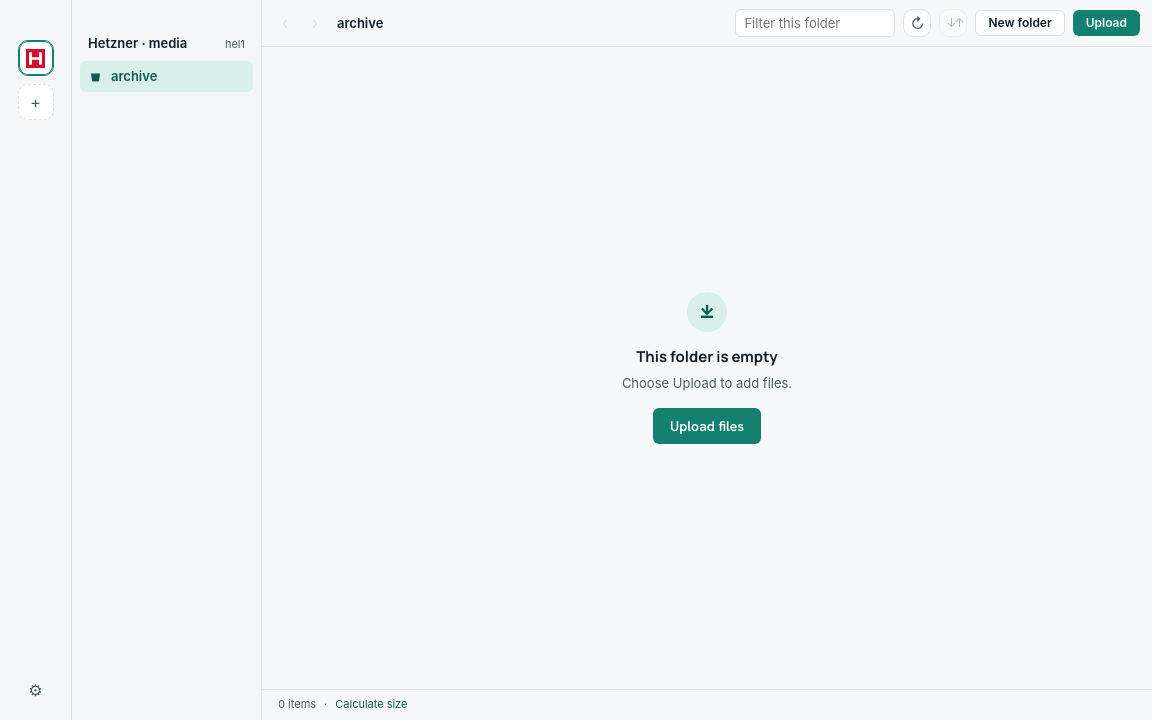
App › applies the saved theme and changes it from Settings
Type keys "{Meta>},{/Meta}"
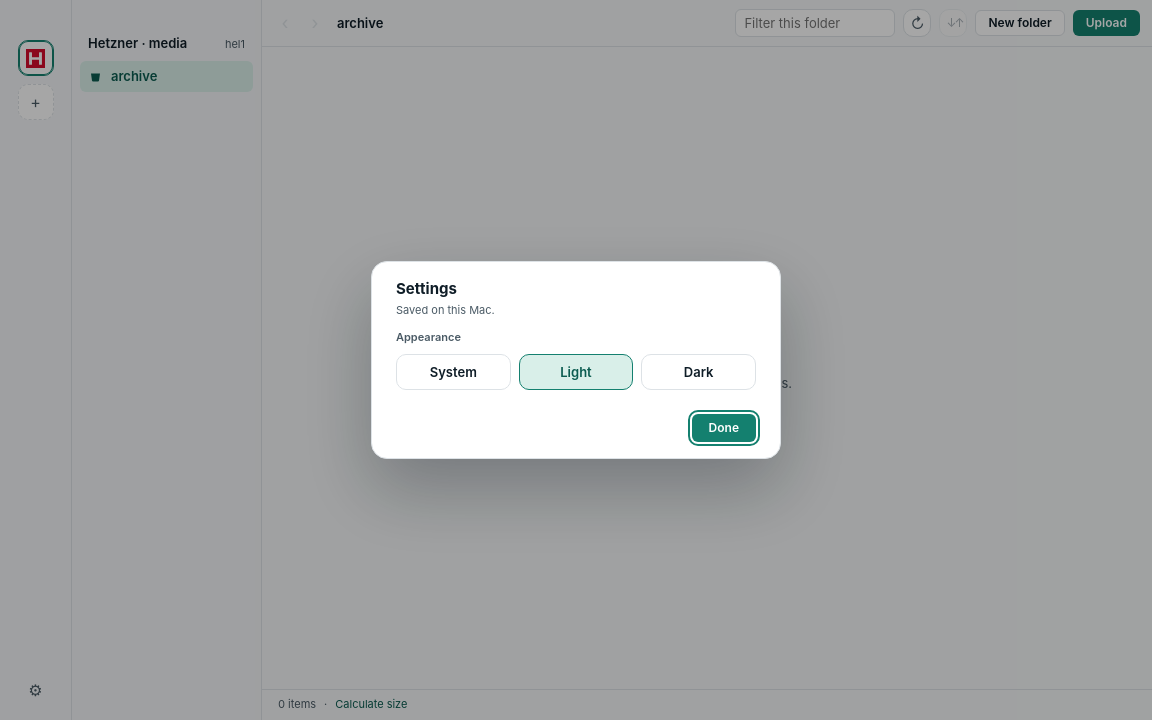
Click the radio button labelled "Dark" at (699, 372), box [641,354,756,390]
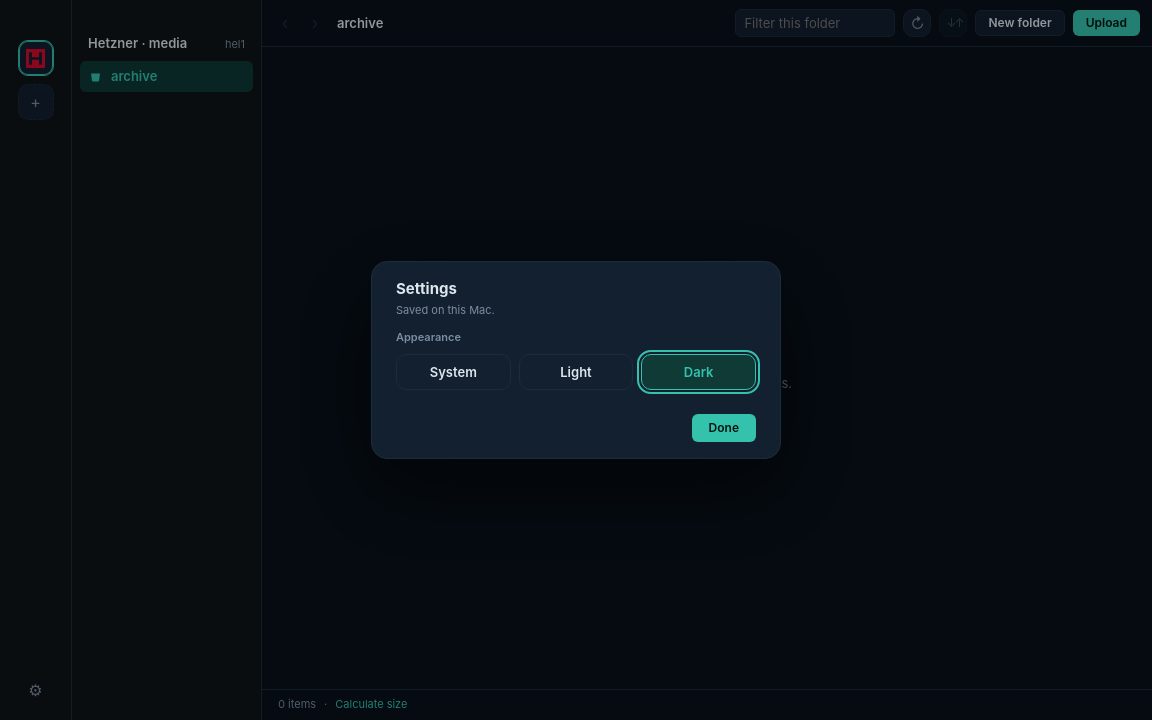
Click the button "Done" at (724, 428), box [692,414,756,442]
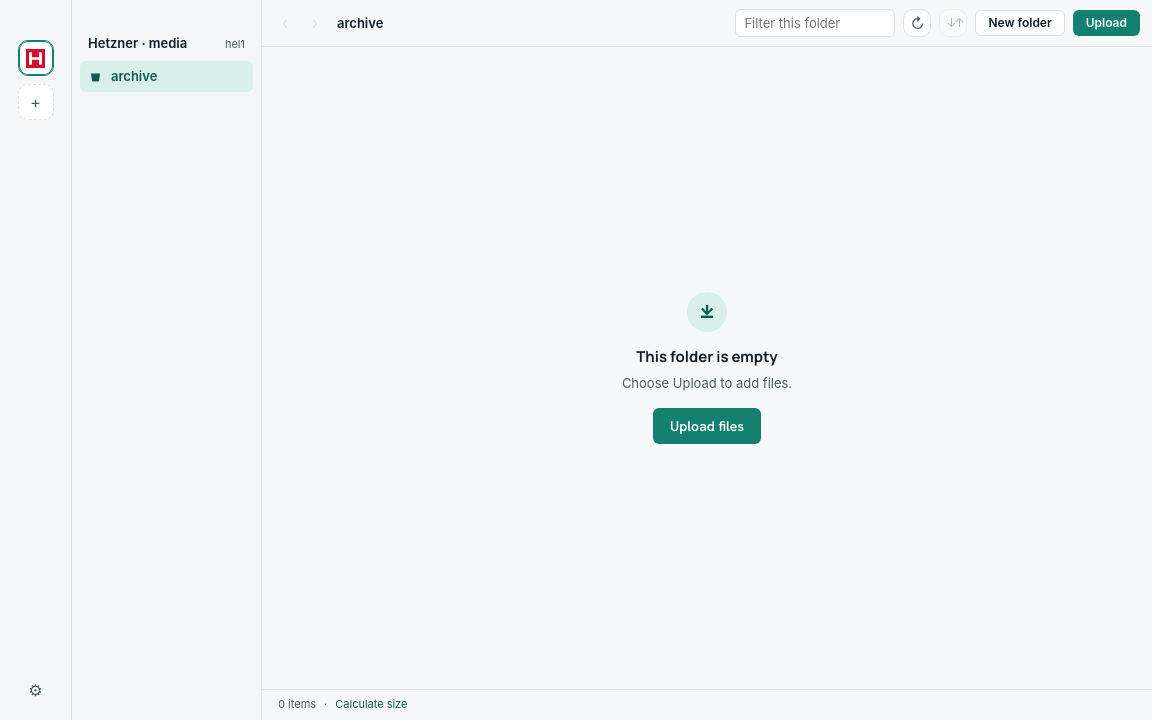
expect the heading "Settings" is gone: met
